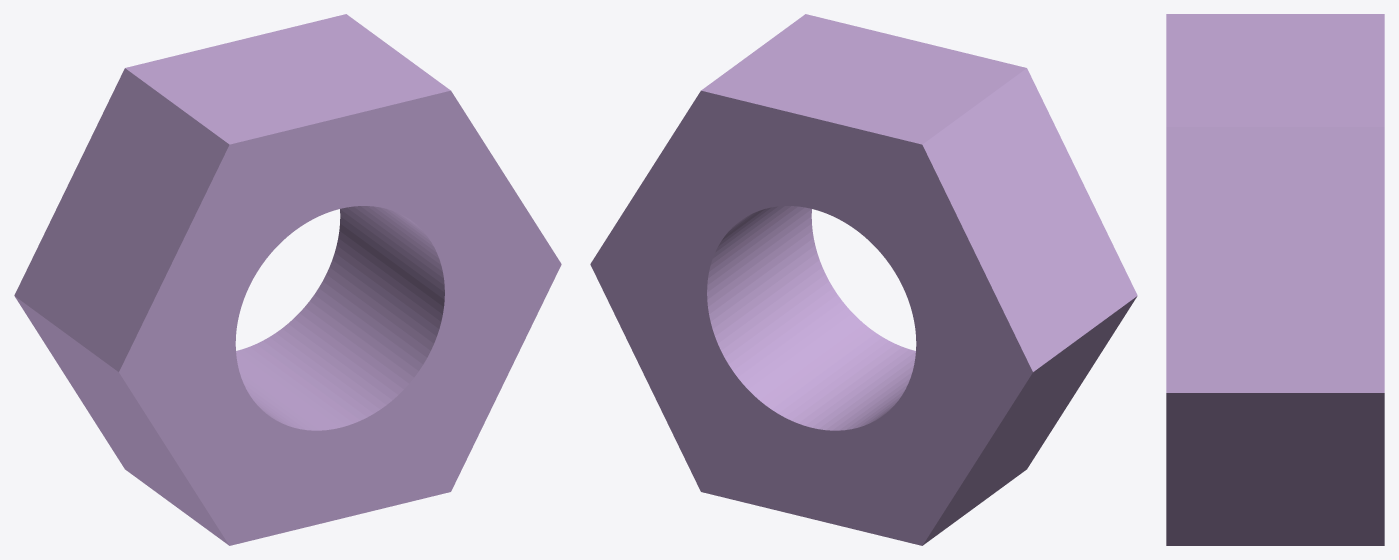
Rendered from hex_nut_mesh_demo.glb.
3 renders of one model, left to right at view 1: azimuth 30°, elevation 25°; view 2: azimuth 150°, elevation 25°; view 3: azimuth 270°, elevation 25°, orthographic. The views are drawn at different scales.
Visible parts, largest first — view 1: hex_nut; view 2: hex_nut; view 3: hex_nut.
Boxes of the visible parts, <box> form: hex_nut: <box>14,14,561,545</box>; hex_nut: <box>590,14,1137,545</box>; hex_nut: <box>1166,14,1384,545</box>.
Size of the model in its own units: 6.35 by 5.5 by 2.6.
